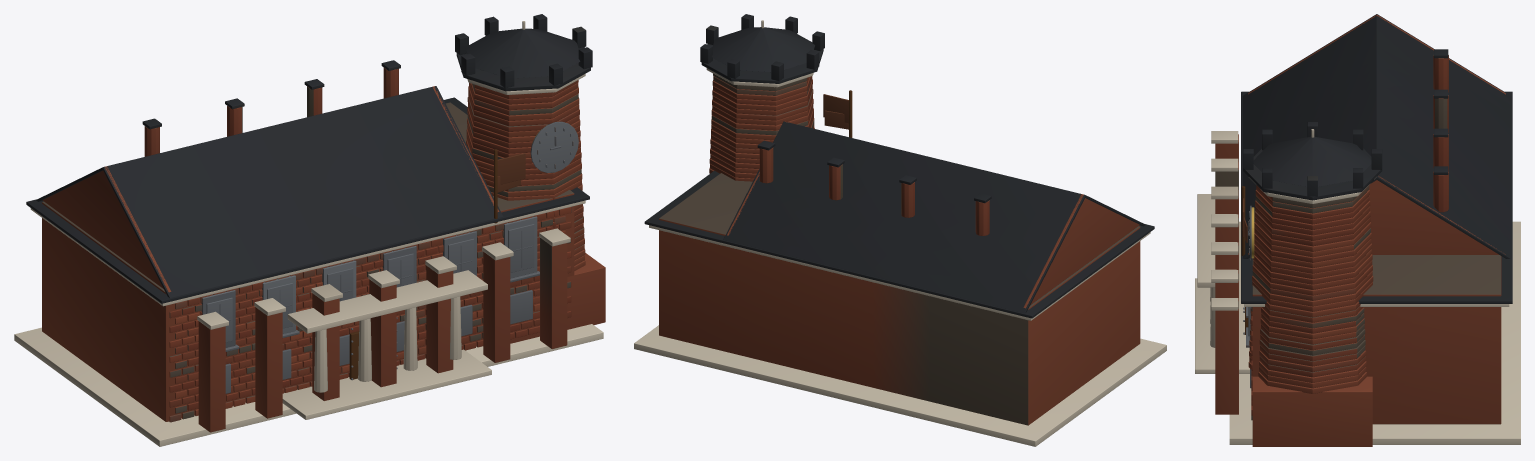
The model's file is building_university_grand_college.fbx.
The picture shows the model from 3 angles, left to right: view 1: azimuth 30°, elevation 25°; view 2: azimuth 150°, elevation 25°; view 3: azimuth 270°, elevation 25°; orthographic projection. The views are drawn at different scales.
Parts seen in each view (by area): view 1: building_university_grand_college; view 2: building_university_grand_college; view 3: building_university_grand_college.
Boxes of the visible parts, left/top/right/bottom form: building_university_grand_college: left=14, top=14, right=605, bottom=446; building_university_grand_college: left=634, top=14, right=1166, bottom=446; building_university_grand_college: left=1195, top=14, right=1520, bottom=446.
Size of the model in its own units: 16.37 by 9.95 by 9.9.
